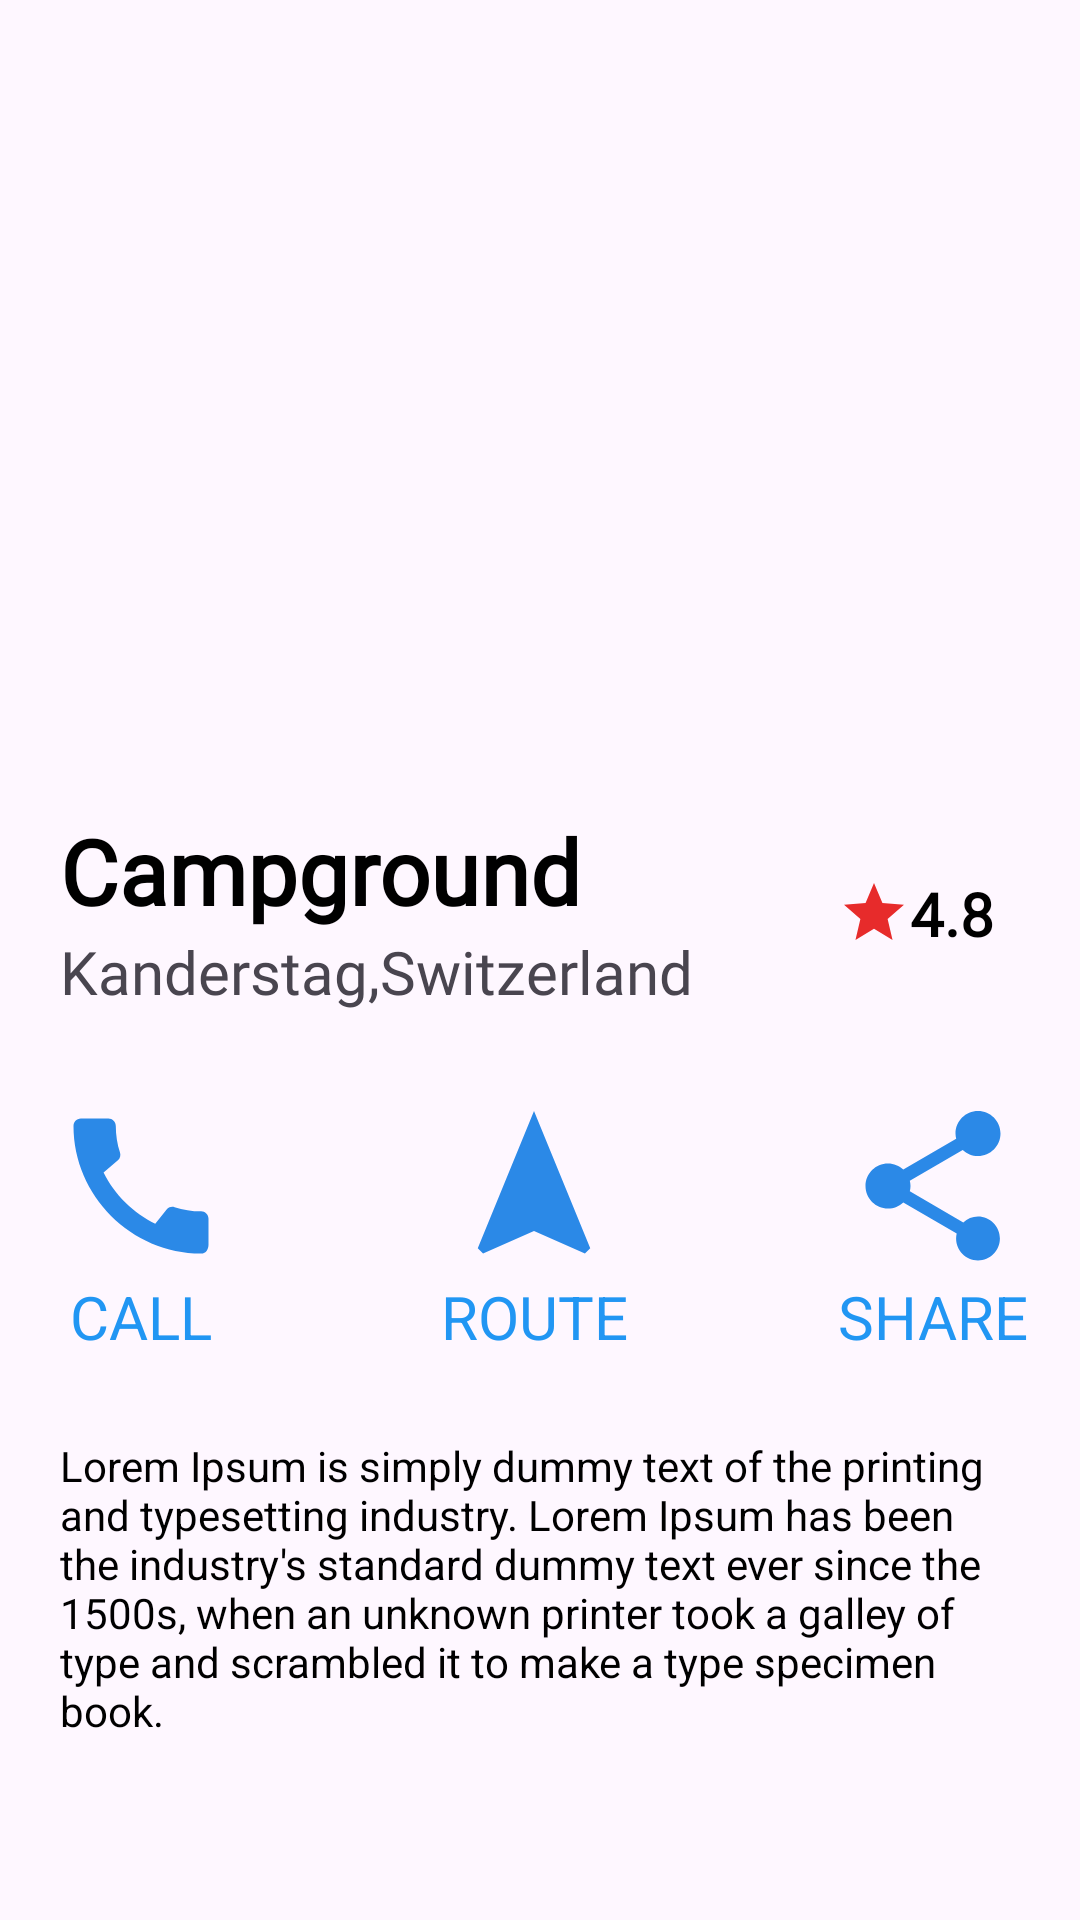

Screen size 1080w x 1920h. Icon name, then its box in pixels as (x1, y1, x2, y2):
star: (844, 883, 904, 940)
